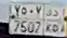0: (28, 9, 35, 34)
5: (21, 6, 27, 33)
7: (13, 5, 20, 32), (35, 5, 41, 34)
D: (53, 9, 59, 33)
K: (45, 9, 52, 34)
